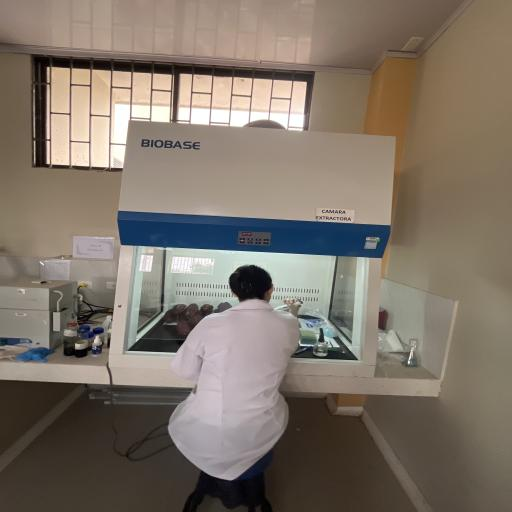Camara_Extractora_Biobase: (99, 108, 405, 390)
